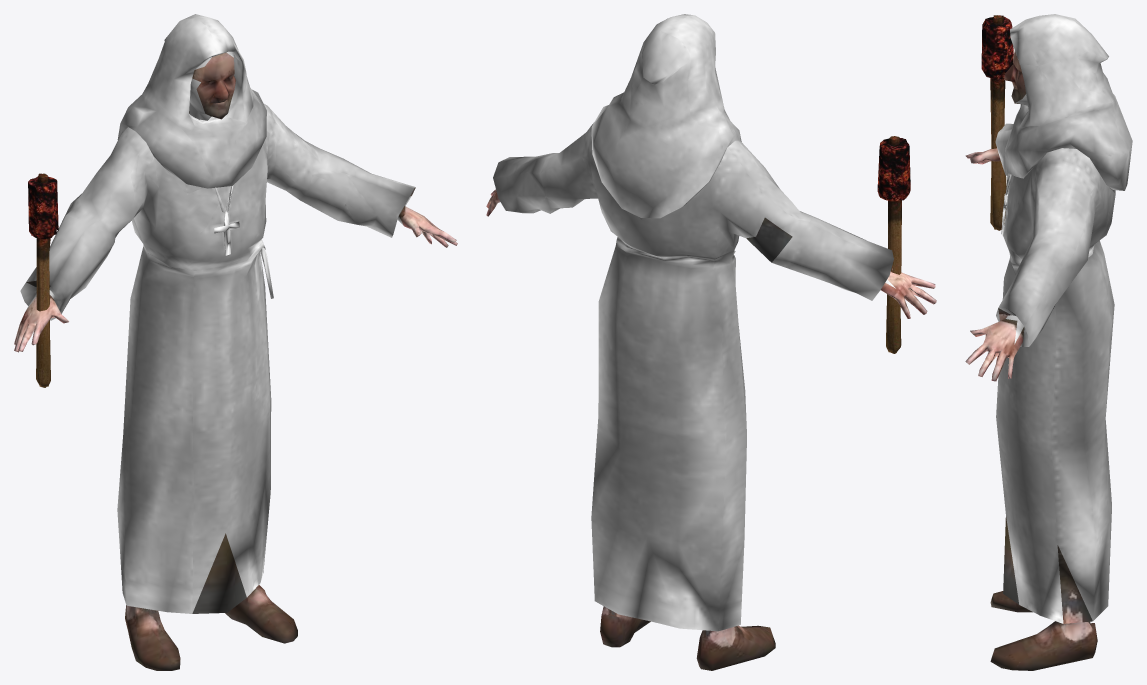
The model's file is realistic-by.2e298fc5a522.fanatic.glb.
3 renders of one model, left to right at view 1: azimuth 30°, elevation 25°; view 2: azimuth 150°, elevation 25°; view 3: azimuth 270°, elevation 25°, orthographic.
Parts seen in each view (by area): view 1: fanatic; view 2: fanatic; view 3: fanatic.
Boxes of the visible parts, x1,y1,x2,y2 form: fanatic: [14, 14, 457, 670]; fanatic: [486, 14, 936, 670]; fanatic: [965, 14, 1132, 670].
Size of the model in its own units: 1.34 by 1.8 by 0.4417.
Materials: 3 (3 with a texture image).
